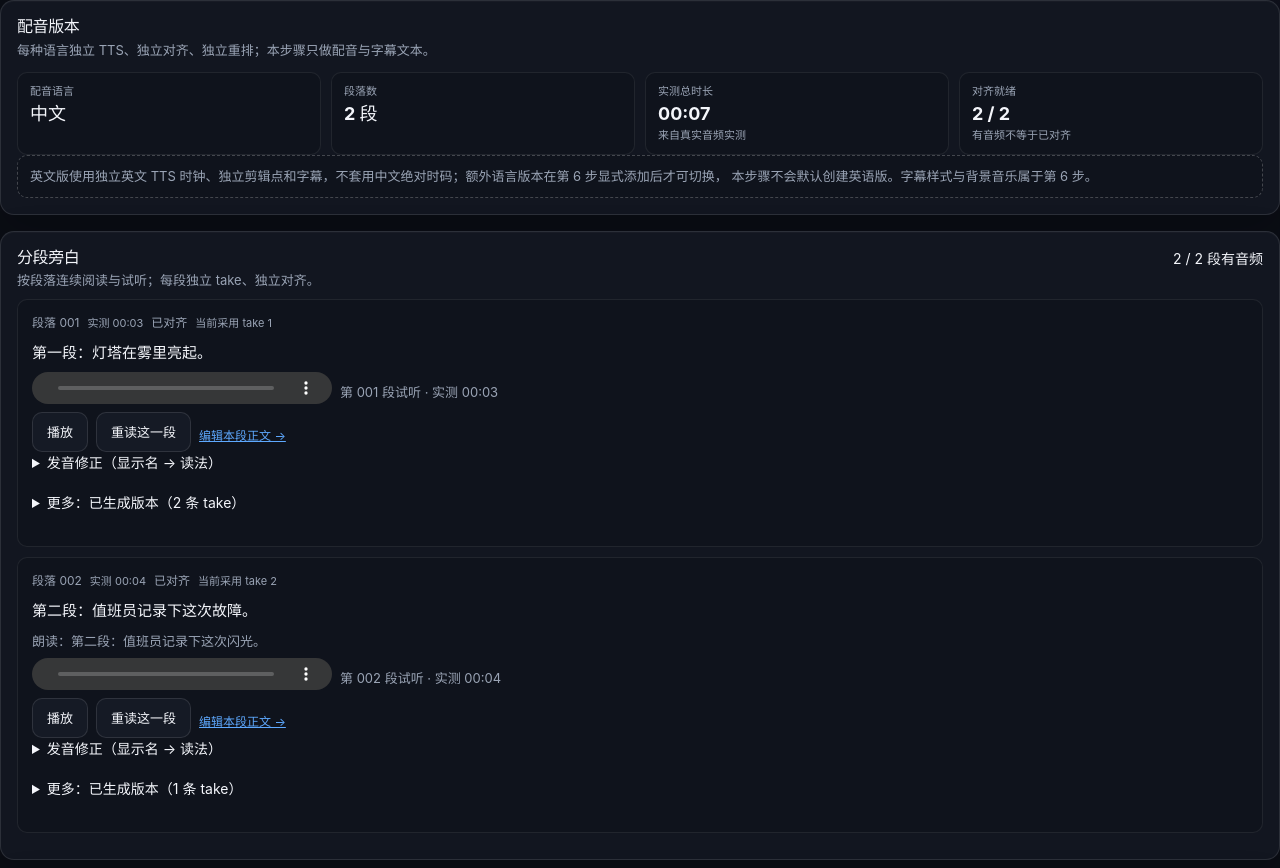
Test: audio page — narration reading and audition › auditions a historical take without adopting it, and explains why 采用此配音 is disabled
Expected: the text "第一段：灯塔在雾里亮起。" is shown, top-left (32, 343), bottom-right (212, 362)
What coordinates should you click on to do the following:
click the heading "更多：已生成版本（2 条 take）"
I would click on:
 (146, 502)
Its box is top-left (47, 494), bottom-right (245, 511).
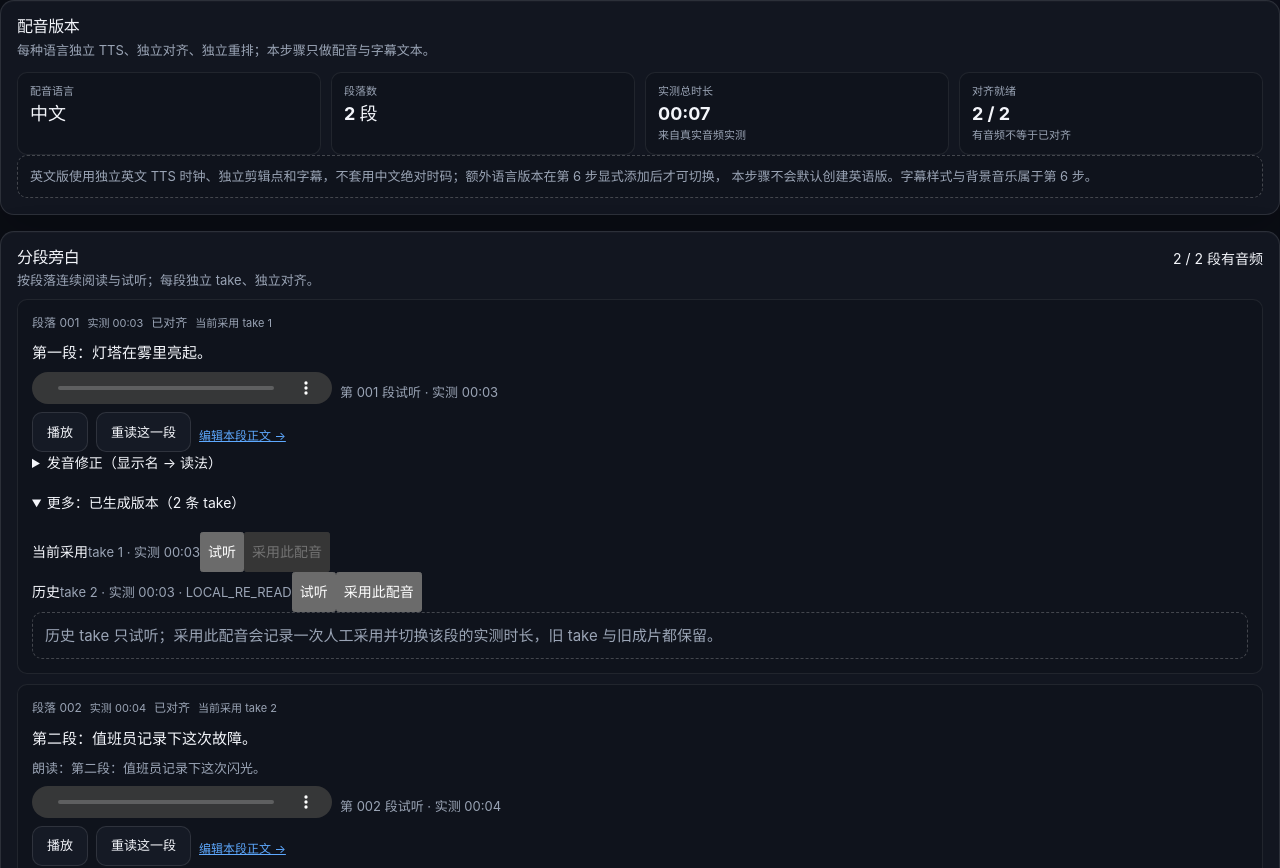
What coordinates should you click on to do the following:
click the 1st button "试听"
I would click on:
 (222, 552)
Its box is top-left (200, 532), bottom-right (244, 572).
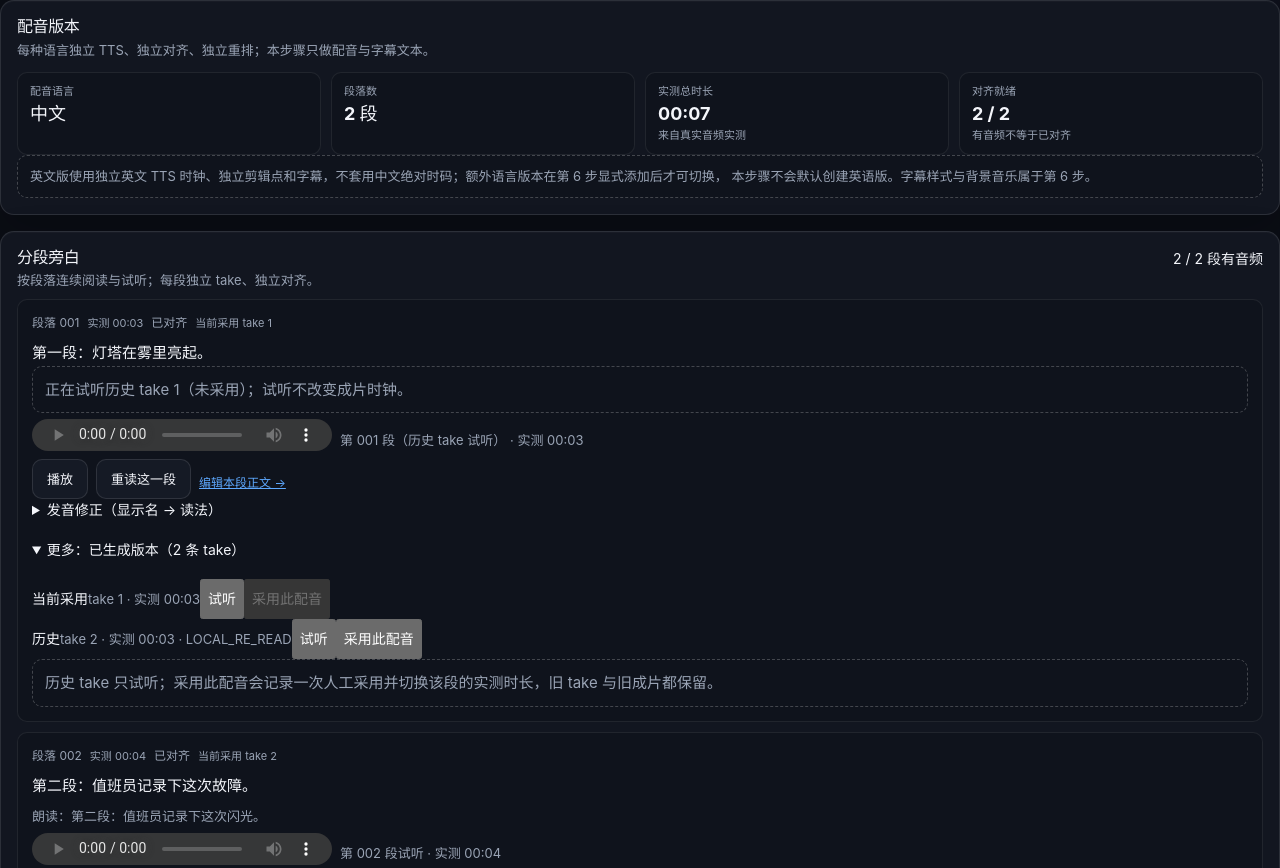
Result: the 1st button "采用此配音" is shown at top-left (244, 579), bottom-right (330, 619)
Result: the text "正在试听历史 take 1（未采用）；试听不改变成片时钟。" is shown at top-left (32, 366), bottom-right (1248, 413)
